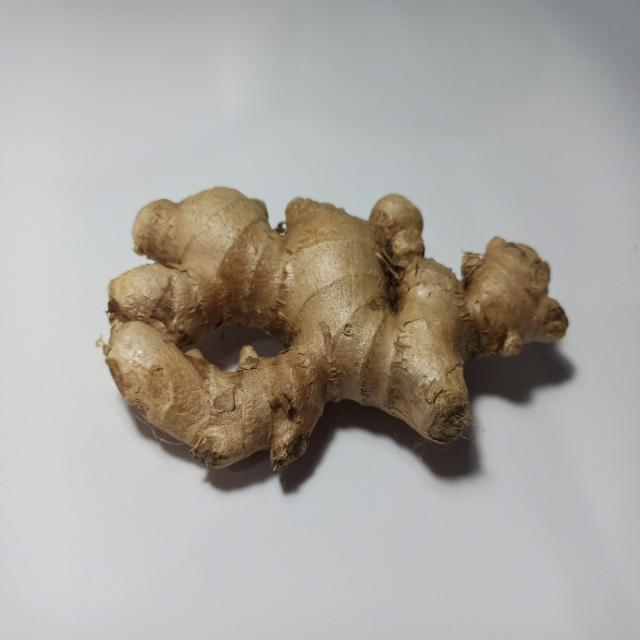ginger: (110, 185, 568, 470)
